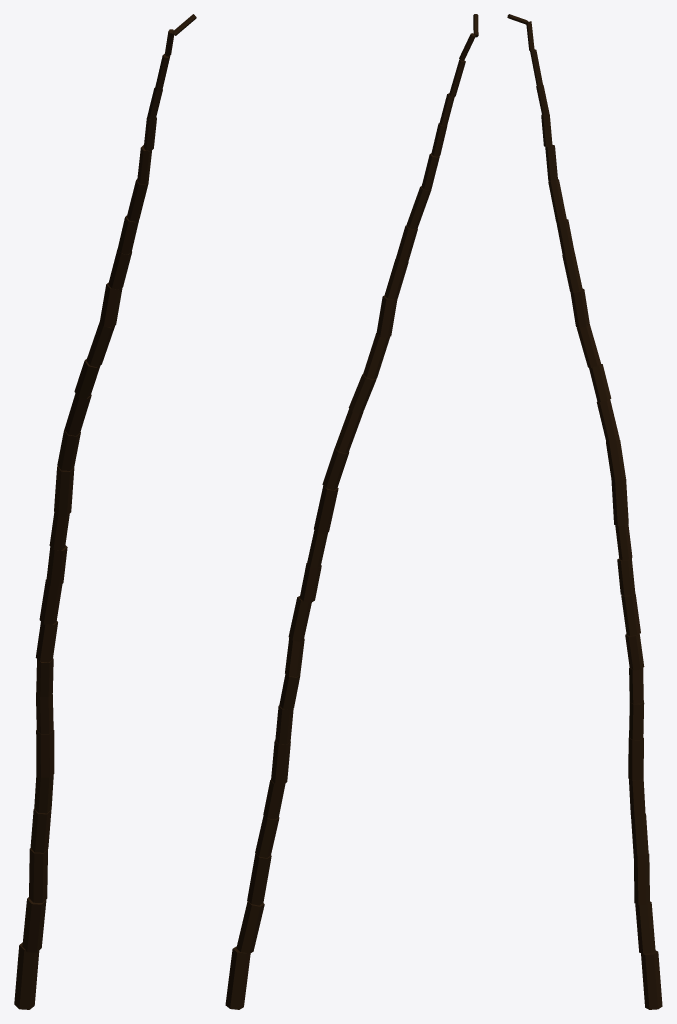
File: tree_551_no_leaf.obj
The picture shows the model from 3 angles, left to right: view 1: azimuth 90°, elevation 25°; view 2: azimuth 150°, elevation 25°; view 3: azimuth 270°, elevation 25°; orthographic projection. The views are drawn at different scales.
Visible parts, largest first — view 1: TrunkAndBranches; view 2: TrunkAndBranches; view 3: TrunkAndBranches.
Part boxes in pixels (x1,y1,x2,y2): TrunkAndBranches: (14, 14, 196, 1009); TrunkAndBranches: (225, 14, 478, 1009); TrunkAndBranches: (507, 14, 662, 1009).
Size of the model in its own units: 0.9101 by 4.66 by 0.7127.
